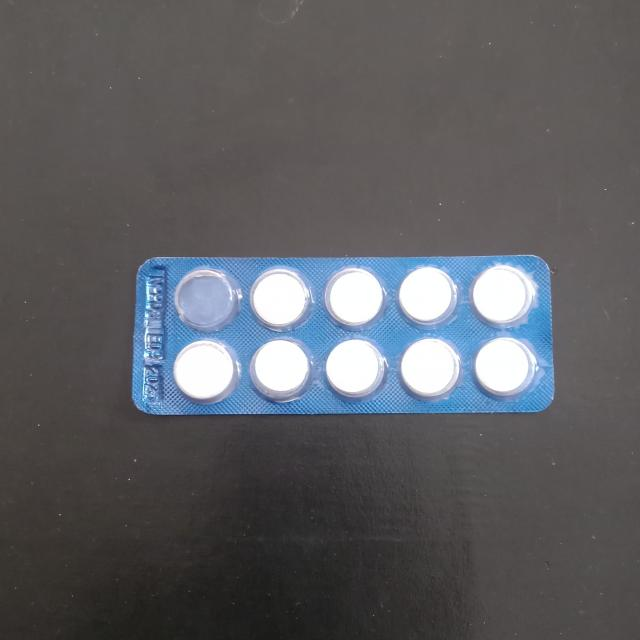defect: (170, 263, 243, 335)
